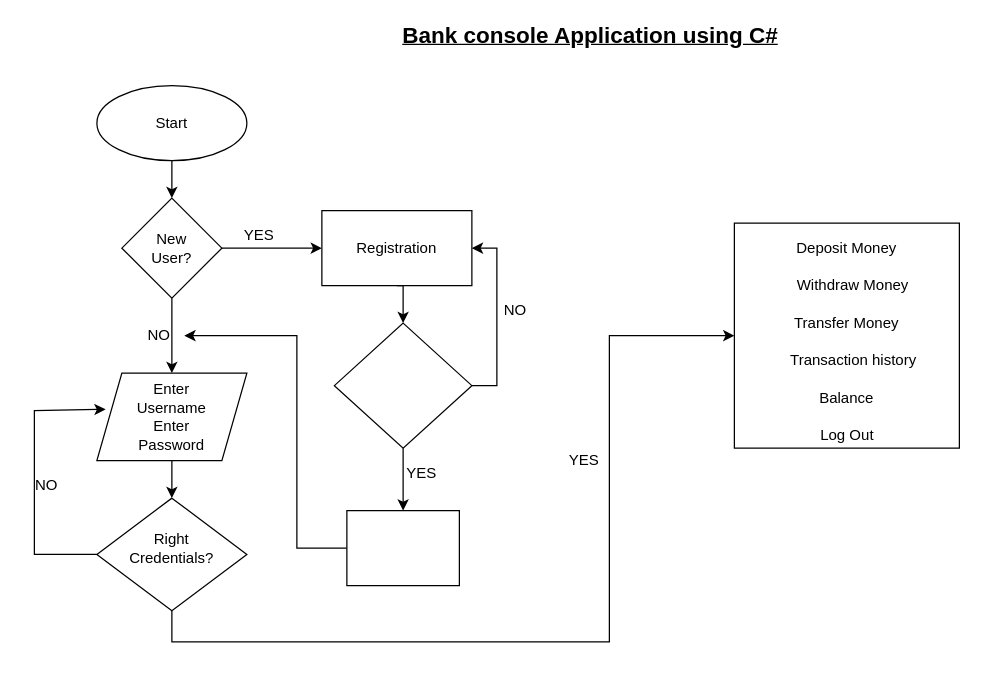
Image size: 981x674. Some labels were removed from this diagram. The box of each missing label's shape, as (x1, y1, x2, y2) in pixels:
Register Successfully: (346, 509, 459, 586)
Registration Detail Correct?: (333, 322, 472, 448)
